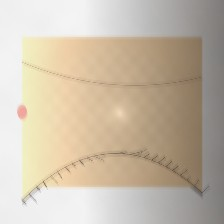hemorrhage_spot: (50, 79, 110, 126)
